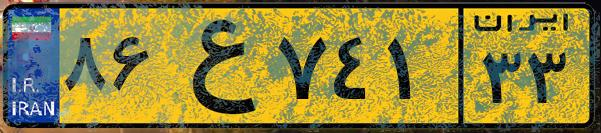1: (385, 28, 445, 110)
3: (475, 38, 525, 113), (525, 38, 570, 115)
4: (330, 28, 385, 110)
6: (110, 28, 158, 98)
7: (270, 28, 330, 110)
8: (57, 26, 110, 100)
ع: (158, 12, 270, 120)
